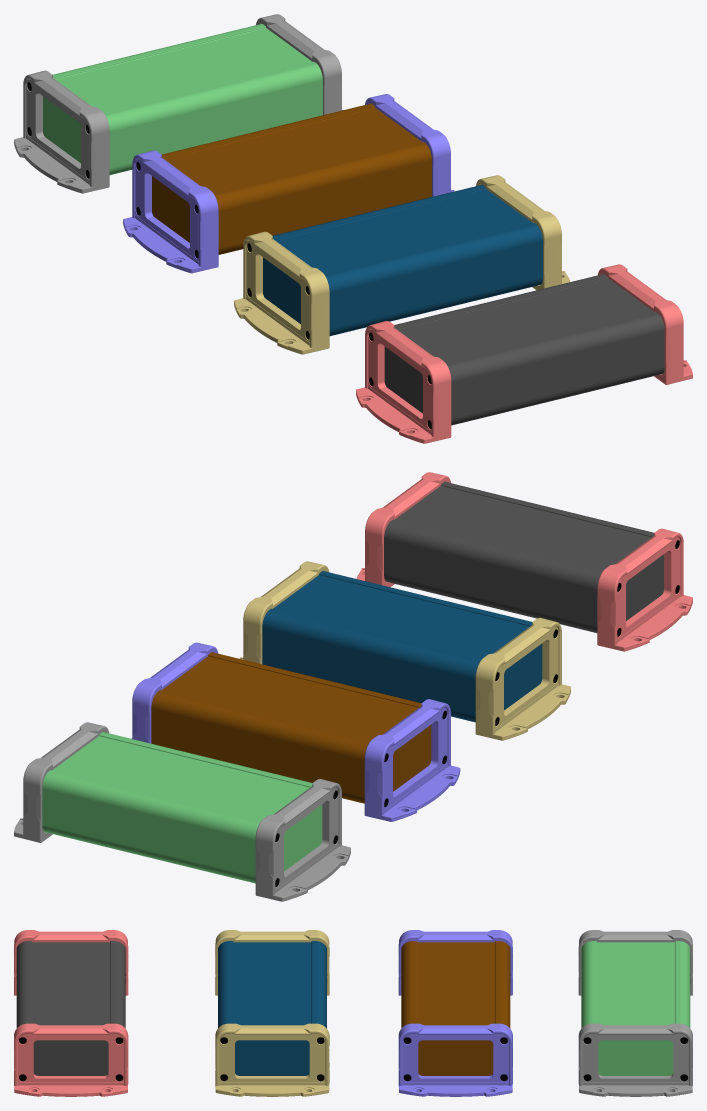
The picture shows the model from 3 angles, top to bottom: view 1: azimuth 30°, elevation 25°; view 2: azimuth 150°, elevation 25°; view 3: azimuth 270°, elevation 25°; orthographic projection. The views are drawn at different scales.
Parts seen in each view (by area): view 1: SC-FT80x40-1.1-K61 (×8), SC-FT80x40-2.3-K61_黄色 (×8), SC-FT80x40-3.1-K61 (×4); view 2: SC-FT80x40-1.1-K61 (×8), SC-FT80x40-2.3-K61_黄色 (×8), SC-FT80x40-3.1-K61 (×4); view 3: SC-FT80x40-1.1-K61 (×4), SC-FT80x40-2.3-K61_黄色 (×8), SC-FT80x40-2.1-K61 (×4).
Boxes of the visible parts, bbox=[...] form: SC-FT80x40-1.1-K61 (×8): bbox=[53, 24, 664, 425]; SC-FT80x40-2.3-K61_黄色 (×8): bbox=[14, 14, 692, 443]; SC-FT80x40-3.1-K61 (×4): bbox=[43, 96, 422, 413]; SC-FT80x40-1.1-K61 (×8): bbox=[42, 482, 653, 883]; SC-FT80x40-2.3-K61_黄色 (×8): bbox=[14, 472, 692, 901]; SC-FT80x40-3.1-K61 (×4): bbox=[284, 554, 663, 871]; SC-FT80x40-1.1-K61 (×4): bbox=[16, 941, 690, 1028]; SC-FT80x40-2.3-K61_黄色 (×8): bbox=[14, 930, 692, 1096]; SC-FT80x40-2.1-K61 (×4): bbox=[33, 1040, 673, 1075].
Size of the model in its own units: 0.202 by 0.0478 by 0.499.
